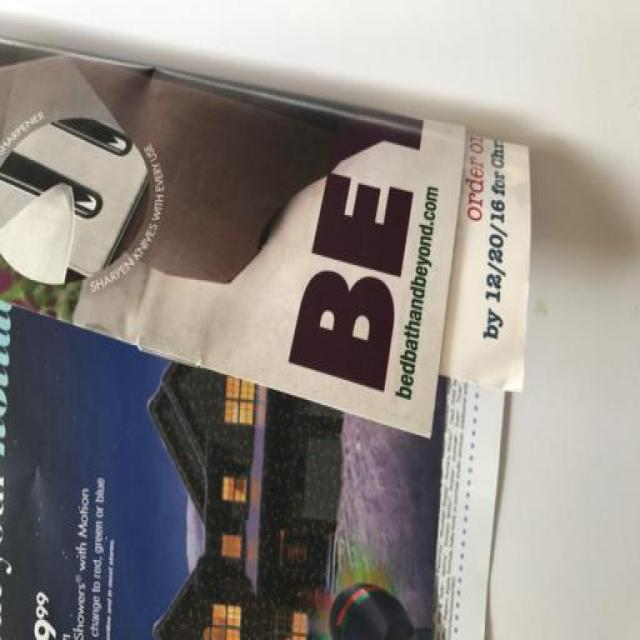paper: (3, 42, 527, 640)
